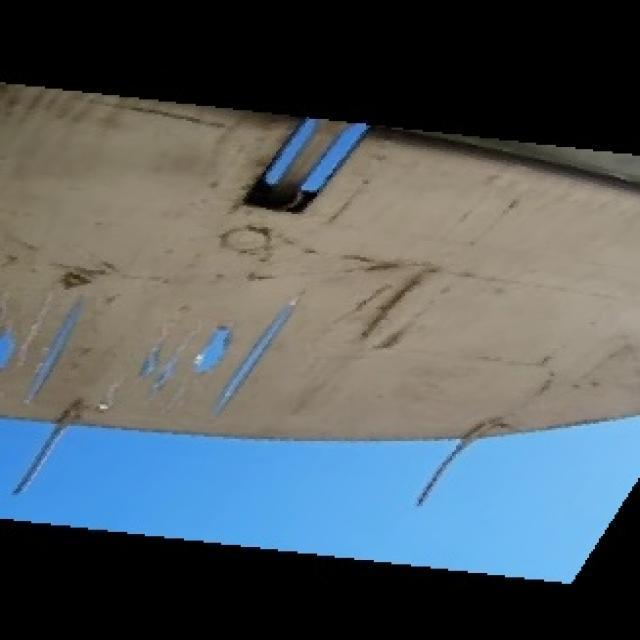crack: (2, 281, 308, 420)
